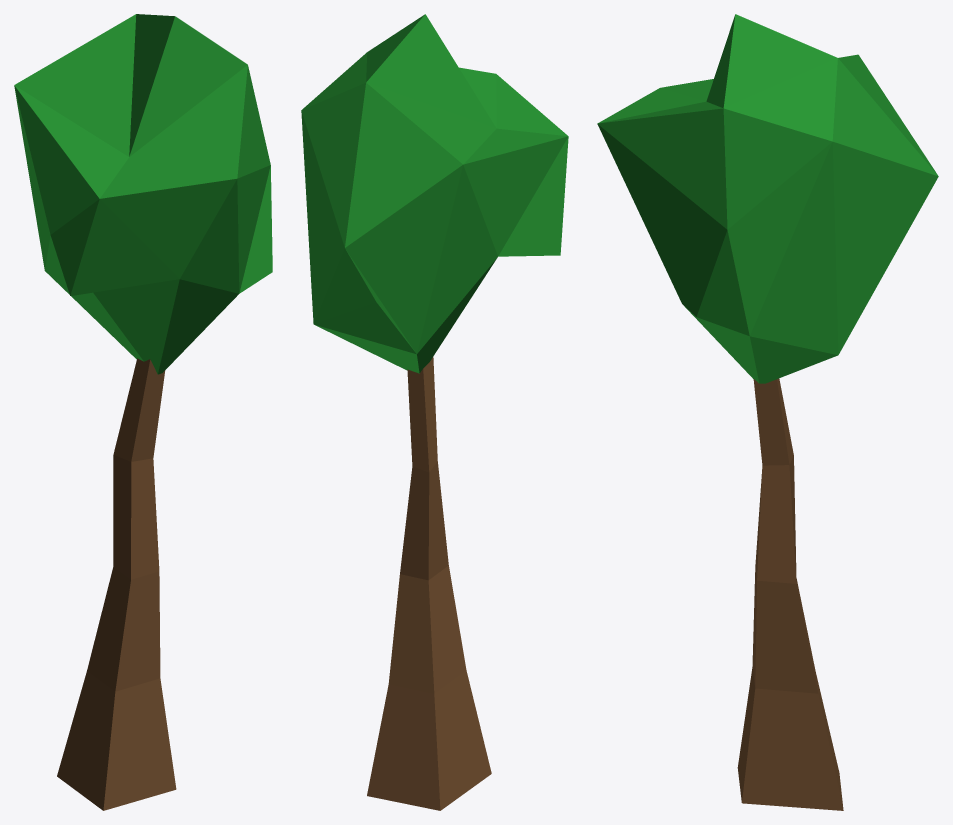
Rendered from tree3.fbx.
3 views of the same model, side by side, from view 1: azimuth 30°, elevation 25°; view 2: azimuth 150°, elevation 25°; view 3: azimuth 270°, elevation 25° (orthographic). The views are drawn at different scales.
Parts seen in each view (by area): view 1: trunk7; view 2: trunk7; view 3: trunk7.
Boxes of the visible parts, x1=… form: trunk7: x1=14, y1=14, x2=272, y2=810; trunk7: x1=301, y1=14, x2=568, y2=810; trunk7: x1=597, y1=14, x2=938, y2=810.
Bounding box in the file's own units: 25.85 × 85.02 × 33.19.
